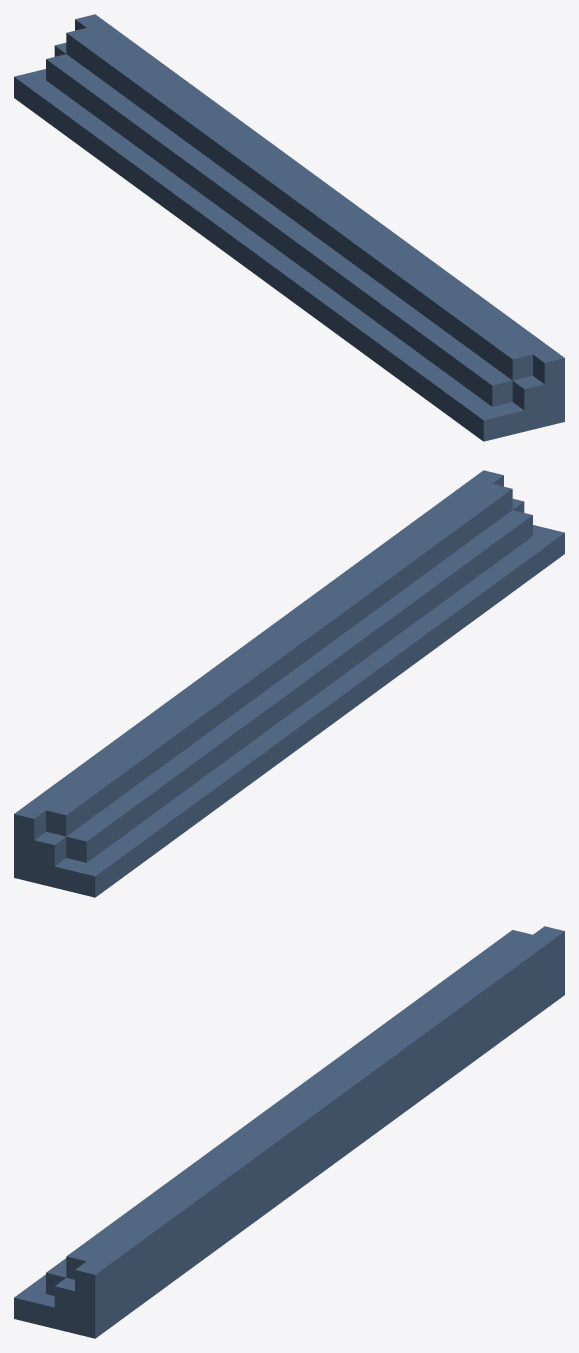
Rendered from daszek_ozdoba_2.dae.
The picture shows the model from 3 angles, top to bottom: view 1: azimuth 30°, elevation 25°; view 2: azimuth 150°, elevation 25°; view 3: azimuth 330°, elevation 25°; orthographic projection.
Parts seen in each view (by area): view 1: Content; view 2: Content; view 3: Content.
Boxes of the visible parts, x1=… form: Content: x1=14, y1=14, x2=564, y2=441; Content: x1=14, y1=470, x2=564, y2=897; Content: x1=14, y1=926, x2=564, y2=1338.
Size of the model in its own units: 4 by 3 by 40.
Materials: 1 (1 with a texture image).
